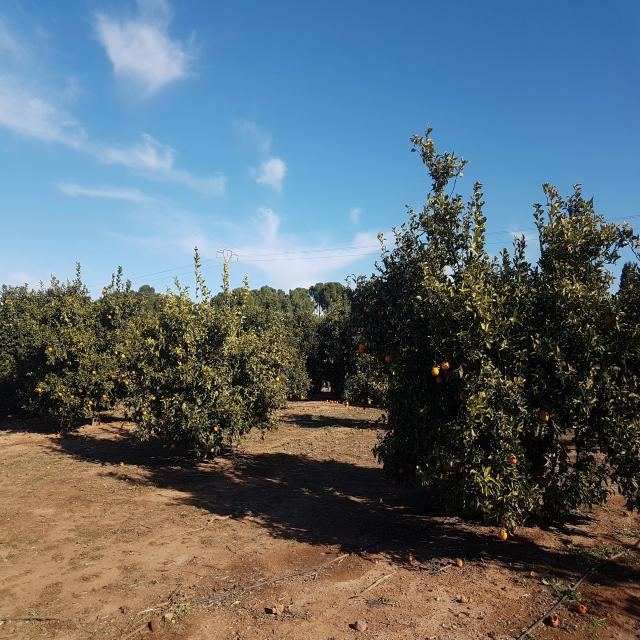Jeruk Sudah Matang: (498, 529, 508, 541), (508, 454, 518, 464), (442, 360, 452, 370), (433, 366, 441, 377), (542, 412, 551, 421), (359, 344, 367, 354), (385, 356, 394, 364), (214, 390, 218, 396), (191, 348, 195, 354), (214, 426, 218, 431), (275, 377, 279, 382), (152, 396, 156, 401), (38, 388, 42, 392), (262, 436, 266, 440), (121, 374, 125, 378), (92, 370, 96, 374), (112, 374, 116, 378), (68, 298, 72, 302), (122, 354, 125, 359), (211, 448, 214, 452), (237, 444, 240, 448), (210, 354, 213, 358), (132, 370, 135, 374), (125, 380, 128, 384), (177, 383, 181, 386), (182, 358, 185, 362), (220, 329, 224, 332), (221, 326, 224, 330), (103, 289, 106, 293), (108, 315, 111, 319), (58, 393, 62, 396), (70, 395, 74, 398), (172, 326, 174, 331), (187, 341, 190, 344), (89, 401, 92, 404), (103, 395, 106, 398), (104, 397, 107, 400), (114, 352, 118, 354), (142, 412, 146, 414), (168, 348, 172, 350), (115, 332, 119, 334), (48, 348, 52, 350), (118, 378, 120, 382), (88, 404, 90, 406)
